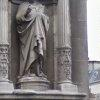Statue: (13, 1, 57, 81)
